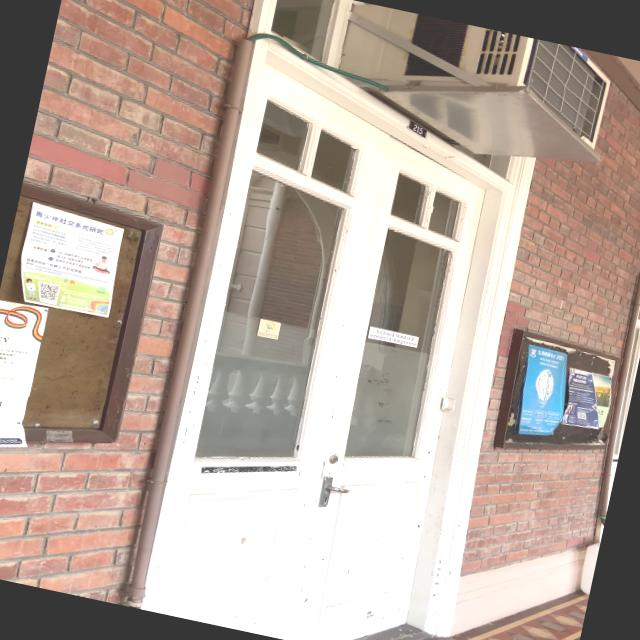room215: (405, 119, 430, 138)
